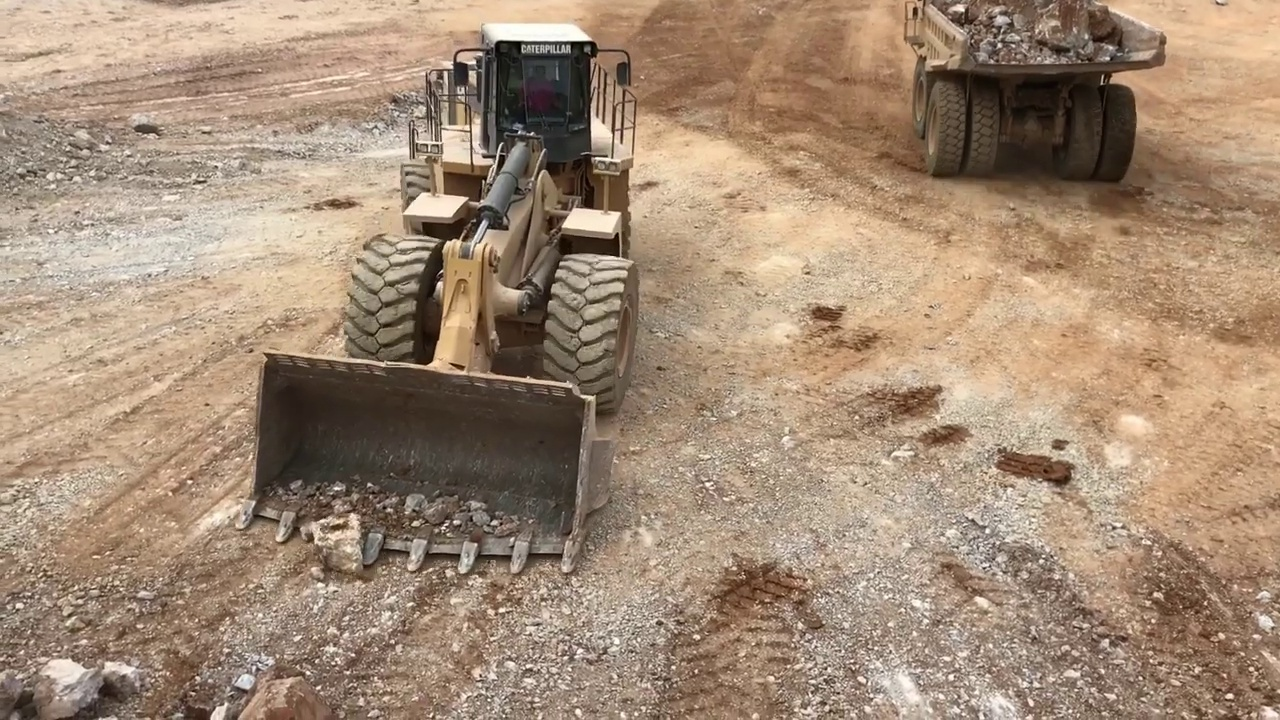dumper: (900, 3, 1170, 189)
wheel loader: (236, 22, 642, 580)
